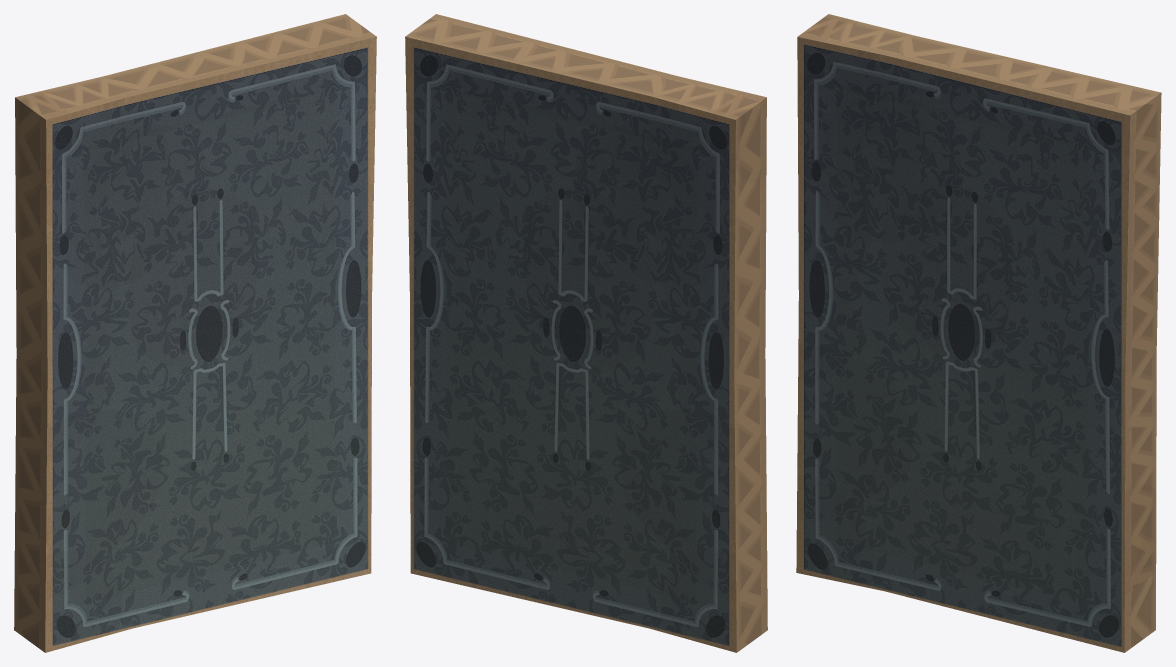
File: SM_Ceiling_01.fbx
3 renders of one model, left to right at view 1: azimuth 30°, elevation 25°; view 2: azimuth 150°, elevation 25°; view 3: azimuth 330°, elevation 25°, orthographic.
Parts seen in each view (by area): view 1: Ceiling_01; view 2: Ceiling_01; view 3: Ceiling_01.
Boxes of the visible parts, bbox=[...] form: Ceiling_01: bbox=[14, 14, 376, 652]; Ceiling_01: bbox=[405, 14, 767, 652]; Ceiling_01: bbox=[796, 14, 1161, 652].
Size of the model in its own units: 807 by 1245 by 131.
